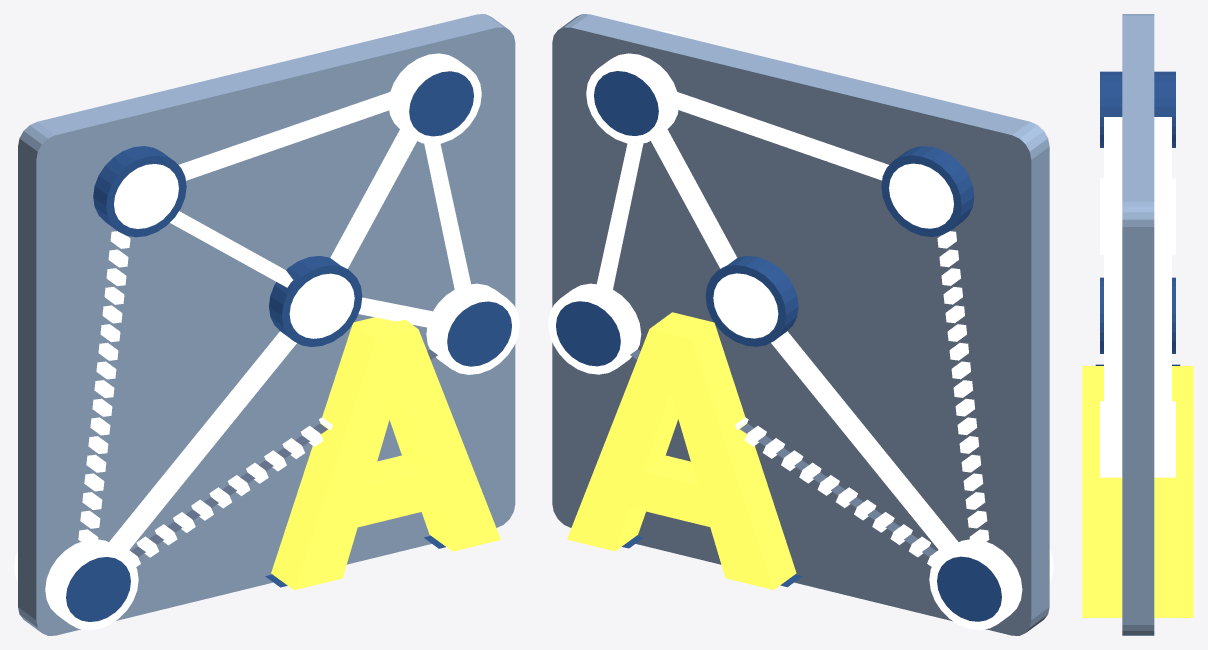
3 views of the same model, side by side, from view 1: azimuth 30°, elevation 25°; view 2: azimuth 150°, elevation 25°; view 3: azimuth 270°, elevation 25° (orthographic). The views are drawn at different scales.
Parts seen in each view (by area): view 1: iconAdaptivity; view 2: iconAdaptivity; view 3: iconAdaptivity.
Part boxes in pixels (bbox=[...]): iconAdaptivity: bbox=[14, 14, 519, 635]; iconAdaptivity: bbox=[548, 14, 1053, 635]; iconAdaptivity: bbox=[1082, 14, 1193, 635].
Bounding box in the file's own units: 0.5645 × 0.5635 × 0.1315.
